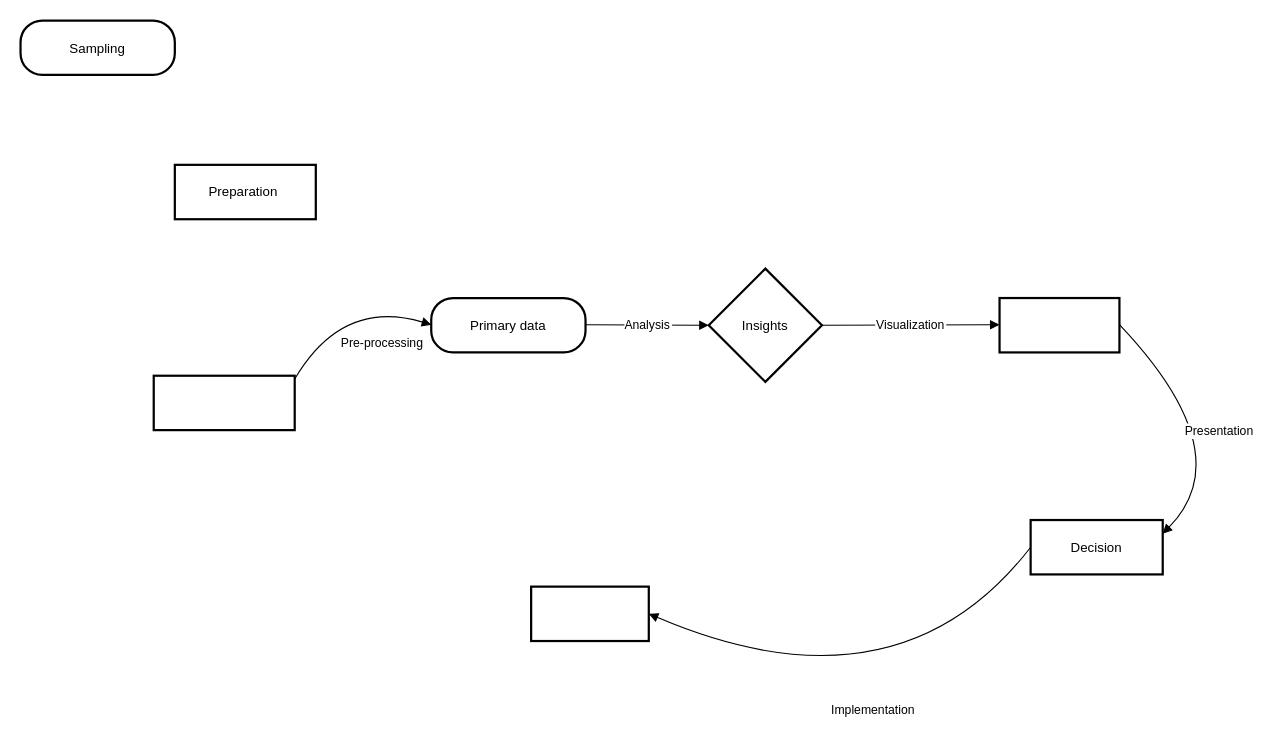
Some shapes in this 1273 by 736 pixel diagram are drawn without their labels. The centre of each missing label's shape, as x and y in pixels:
"Action" belongs at (589,613).
"Raw Data" belongs at (223,402).
"Report" belongs at (1059,324).
